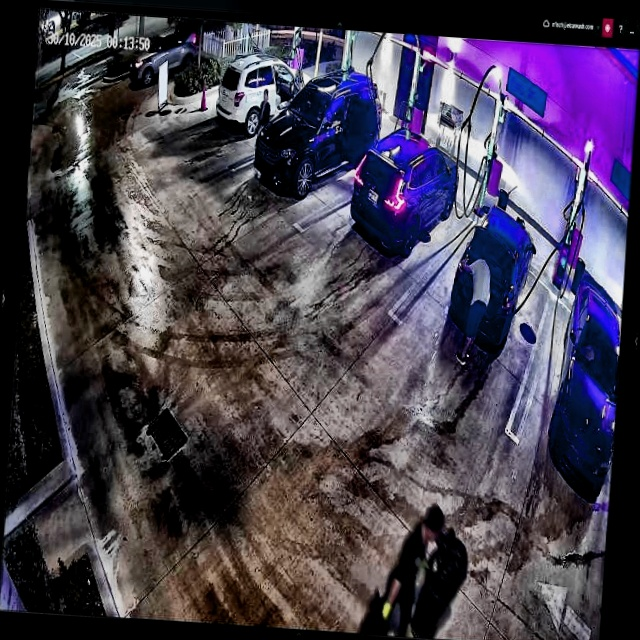Car: (254, 68, 383, 198), (348, 126, 463, 260), (450, 197, 538, 356)
